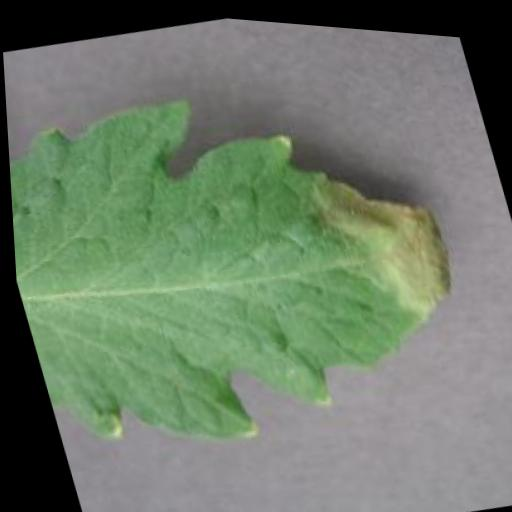Late Blight: (1, 30, 493, 491)
